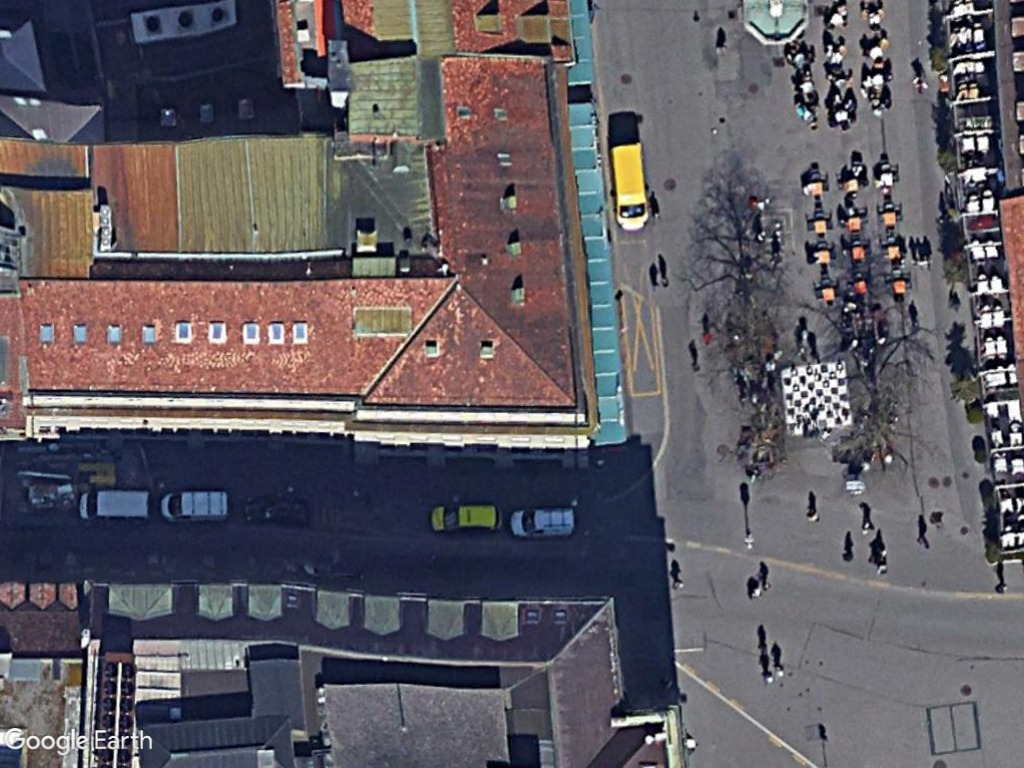car: (428, 502, 505, 535)
van: (610, 139, 650, 234), (79, 485, 153, 522), (509, 505, 578, 540), (160, 489, 232, 522)
